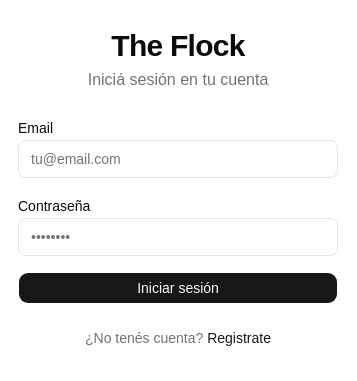
Scenario: LoginPage › shows error message on failed login
Step 1. Type "alice@example.com" into the field labelled "Email" → (178, 159), box [18,140,338,178]
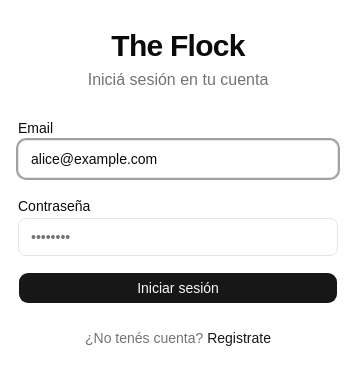
Step 2. Type "wrongpass" into the password field labelled "Contraseña" → (178, 237), box [18,218,338,256]
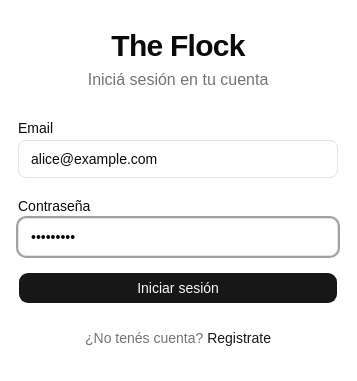
Step 3. Click the button "Iniciar sesión" → (178, 288), box [18,272,338,304]
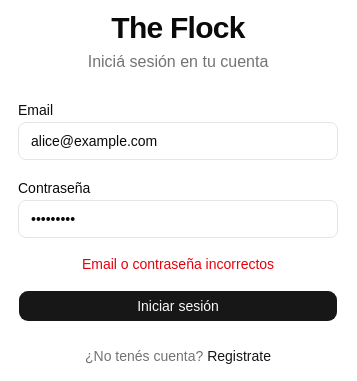
Expected: the text "Email o contraseña incorrectos" is shown, [82,256,274,272]
